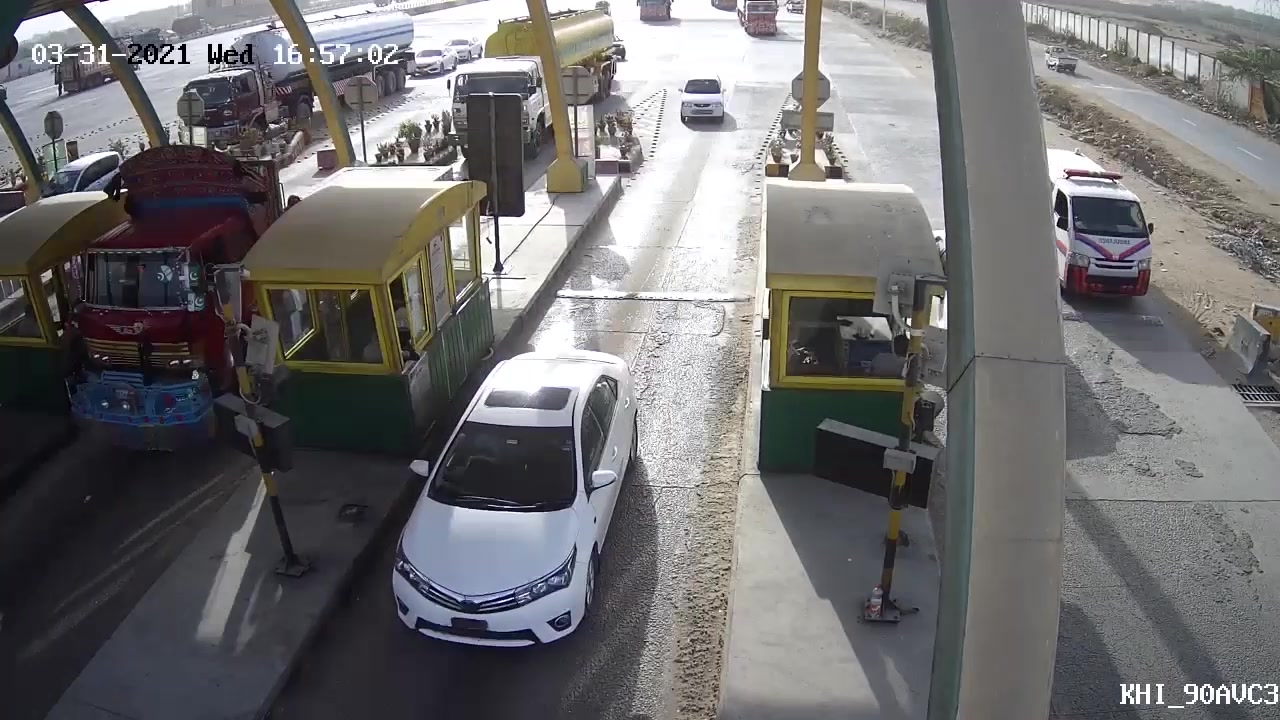F1: (390, 352, 648, 648), (674, 66, 742, 131)
